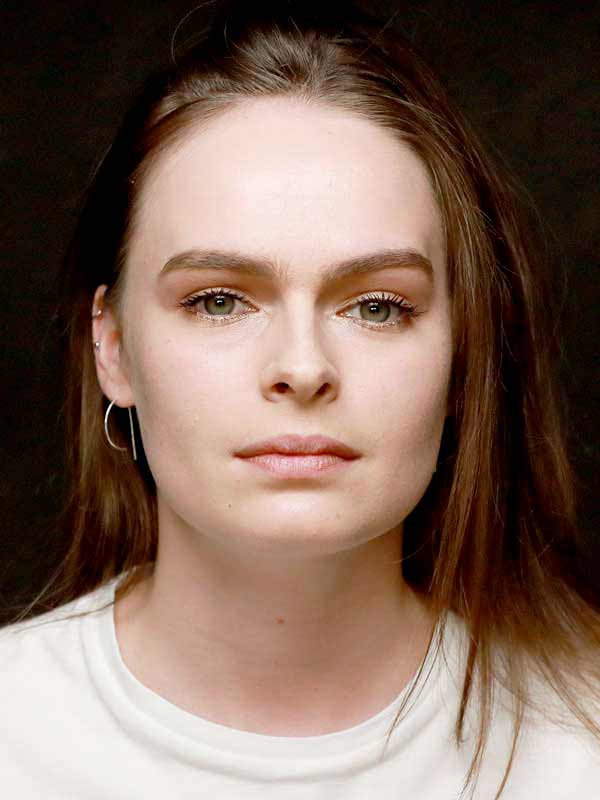Without Helmet: (27, 21, 589, 570)
